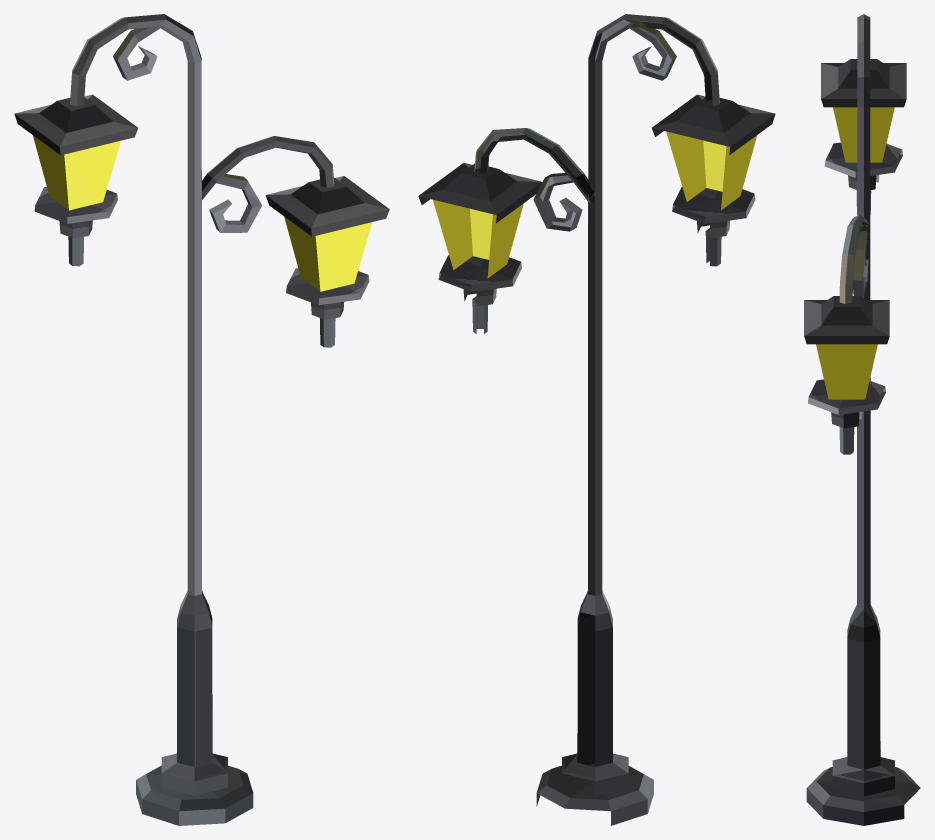
Rendered from city-decor06.fbx.
The picture shows the model from 3 angles, left to right: view 1: azimuth 30°, elevation 25°; view 2: azimuth 150°, elevation 25°; view 3: azimuth 270°, elevation 25°; orthographic projection. The views are drawn at different scales.
Parts seen in each view (by area): view 1: city-decor06; view 2: city-decor06; view 3: city-decor06.
Boxes of the visible parts, x1,y1,x2,y2 form: city-decor06: (14,14,389,825); city-decor06: (418,14,775,825); city-decor06: (804,14,920,825).
Size of the model in its own units: 1 by 2.39 by 0.3361.
1 material, 1 textured.
